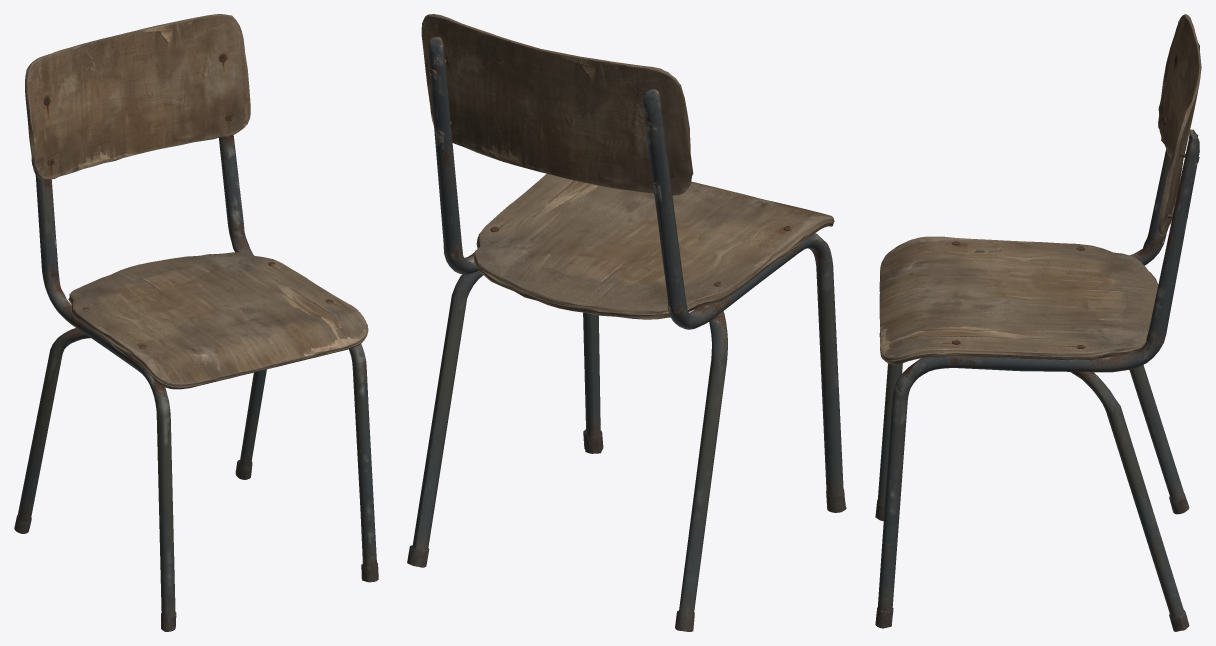
Rendered from silo81_chair.glb.
3 renders of one model, left to right at view 1: azimuth 30°, elevation 25°; view 2: azimuth 150°, elevation 25°; view 3: azimuth 270°, elevation 25°, orthographic. The views are drawn at different scales.
Size of the model in its own units: 0.5024 by 0.9512 by 0.5537.
Materials: 1 (1 with a texture image).
